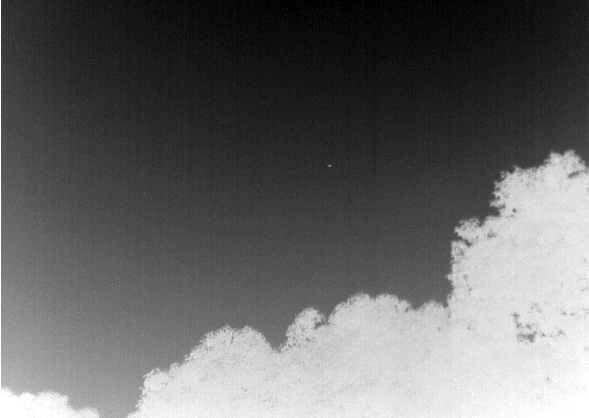dim target: (326, 163, 333, 168)
